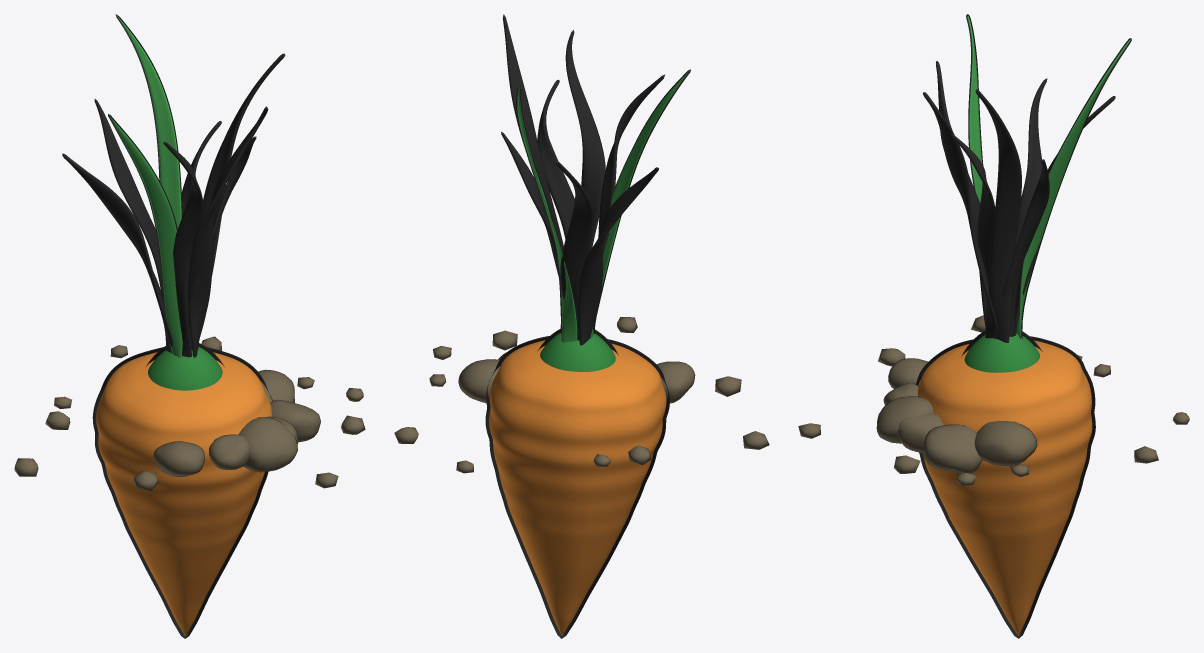
The model's file is carrotground.fbx.
3 renders of one model, left to right at view 1: azimuth 30°, elevation 25°; view 2: azimuth 150°, elevation 25°; view 3: azimuth 270°, elevation 25°, orthographic.
Parts seen in each view (by area): view 1: Carrot_Root, Leaf_05, Leaf_07, Leaf_02, Leaf_06, Carrot_Crown, Clod_12, Leaf_04, Leaf_03, Leaf_00, Clod_10, Clod_14 (+4 smaller); view 2: Carrot_Root, Leaf_07, Leaf_04, Leaf_03, Carrot_Crown, Leaf_02, Leaf_05, Leaf_00, Leaf_08, Leaf_06, Clod_00, Clod_10 (+1 smaller); view 3: Carrot_Root, Leaf_00, Leaf_02, Leaf_07, Carrot_Crown, Clod_14, Clod_00, Leaf_01, Leaf_04, Leaf_05, Leaf_08, Clod_12 (+4 smaller).
Part boxes in pixels (left/top/right/bottom): Carrot_Root: left=92, top=347, right=272, bottom=638; Leaf_05: left=108, top=114, right=183, bottom=357; Leaf_07: left=187, top=106, right=268, bottom=357; Leaf_02: left=115, top=14, right=182, bottom=228; Leaf_06: left=163, top=142, right=203, bottom=357; Carrot_Crown: left=146, top=343, right=224, bottom=390; Clod_12: left=238, top=417, right=297, bottom=472; Leaf_04: left=62, top=153, right=173, bottom=353; Leaf_03: left=94, top=99, right=163, bottom=301; Leaf_00: left=198, top=53, right=285, bottom=275; Clod_10: left=153, top=441, right=204, bottom=476; Clod_14: left=270, top=400, right=320, bottom=442; Carrot_Root: left=485, top=336, right=669, bottom=638; Leaf_07: left=565, top=30, right=605, bottom=257; Leaf_04: left=578, top=167, right=658, bottom=345; Leaf_03: left=556, top=161, right=593, bottom=340; Carrot_Crown: left=537, top=329, right=618, bottom=371; Leaf_02: left=516, top=88, right=578, bottom=342; Leaf_05: left=590, top=69, right=690, bottom=337; Leaf_00: left=502, top=14, right=563, bottom=333; Leaf_08: left=537, top=79, right=574, bottom=239; Leaf_06: left=598, top=74, right=664, bottom=254; Clod_00: left=458, top=359, right=499, bottom=403; Clod_10: left=657, top=361, right=695, bottom=403; Carrot_Root: left=916, top=336, right=1095, bottom=638; Leaf_00: left=975, top=89, right=1021, bottom=342; Leaf_02: left=1016, top=38, right=1131, bottom=339; Leaf_07: left=923, top=92, right=997, bottom=338; Carrot_Crown: left=961, top=330, right=1042, bottom=372; Clod_14: left=923, top=424, right=982, bottom=473; Clod_00: left=974, top=420, right=1037, bottom=466; Leaf_01: left=1002, top=159, right=1049, bottom=336; Leaf_04: left=1015, top=78, right=1047, bottom=250; Leaf_05: left=966, top=14, right=983, bottom=202; Leaf_08: left=950, top=133, right=996, bottom=338; Clod_12: left=876, top=396, right=933, bottom=443.
Size of what is drawn, in the model's own units: 294 by 490 by 293.
